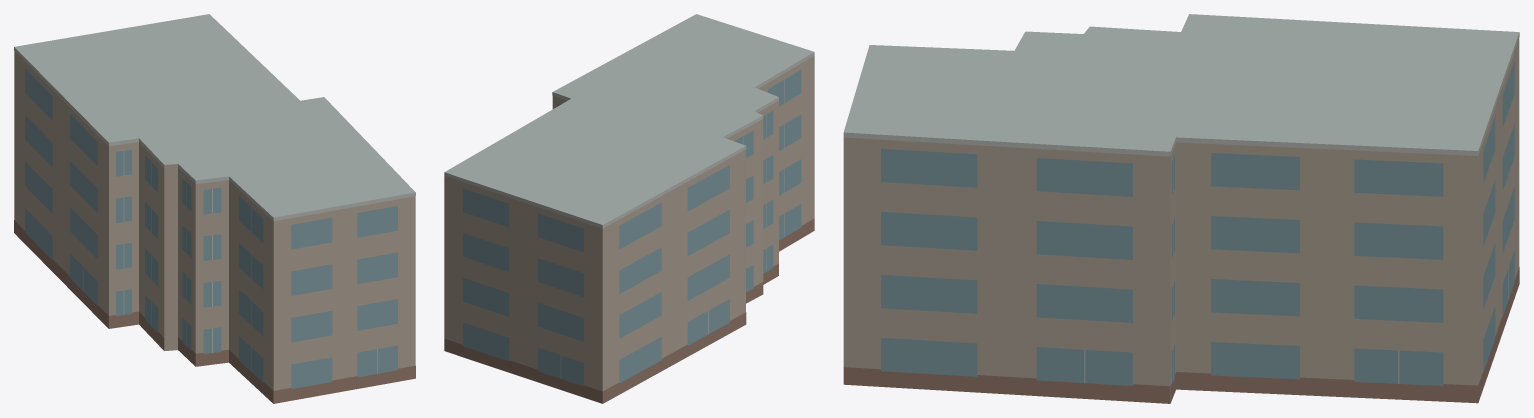
The model's file is survey-upis-32522776.glb.
3 views of the same model, side by side, from view 1: azimuth 30°, elevation 25°; view 2: azimuth 150°, elevation 25°; view 3: azimuth 270°, elevation 25° (orthographic). The views are drawn at different scales.
Parts seen in each view (by area): view 1: survey-upis-32522776.tmp; view 2: survey-upis-32522776.tmp; view 3: survey-upis-32522776.tmp.
Boxes of the visible parts, x1,y1,x2,y2 form: survey-upis-32522776.tmp: [14, 14, 415, 403]; survey-upis-32522776.tmp: [444, 14, 814, 403]; survey-upis-32522776.tmp: [843, 14, 1519, 403].
Bounding box in the file's own units: 14.54 × 12.4 × 30.14.
